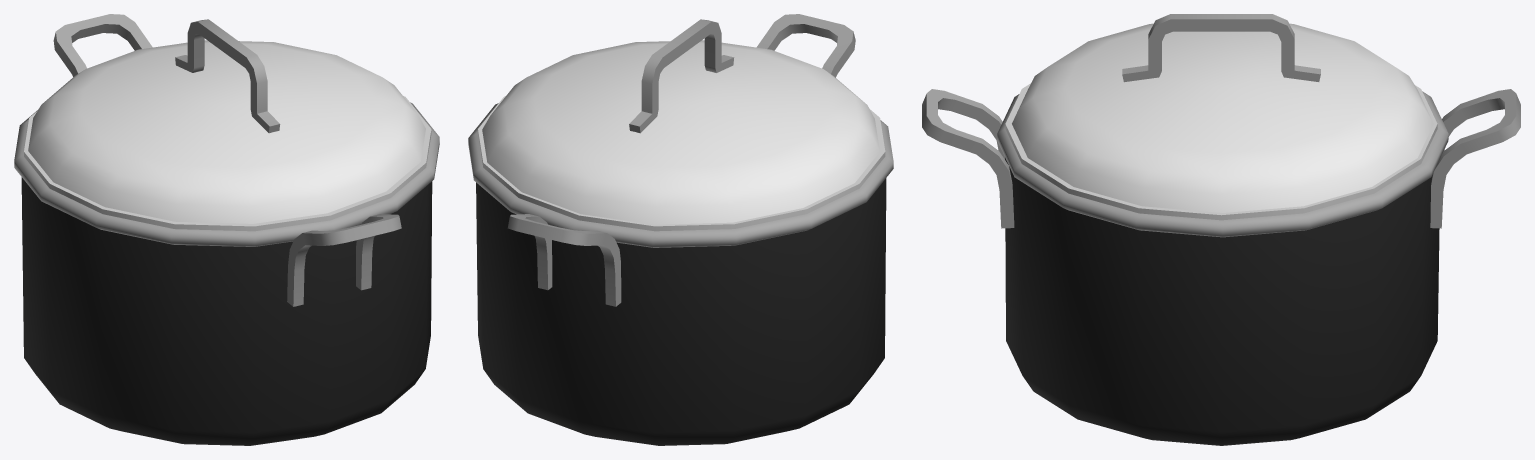
The model's file is SoupPot_01.fbx.
3 renders of one model, left to right at view 1: azimuth 30°, elevation 25°; view 2: azimuth 150°, elevation 25°; view 3: azimuth 270°, elevation 25°, orthographic. The views are drawn at different scales.
Parts seen in each view (by area): view 1: SoupPot_01, SoupPot_01_Lid; view 2: SoupPot_01, SoupPot_01_Lid; view 3: SoupPot_01, SoupPot_01_Lid.
Boxes of the visible parts, <box> form: SoupPot_01: <box>14,14,439,445</box>; SoupPot_01_Lid: <box>24,19,431,231</box>; SoupPot_01: <box>468,14,893,445</box>; SoupPot_01_Lid: <box>478,19,885,231</box>; SoupPot_01: <box>922,89,1520,445</box>; SoupPot_01_Lid: <box>1005,14,1437,220</box>.
Size of the model in its own units: 0.3222 by 0.2776 by 0.4275.
